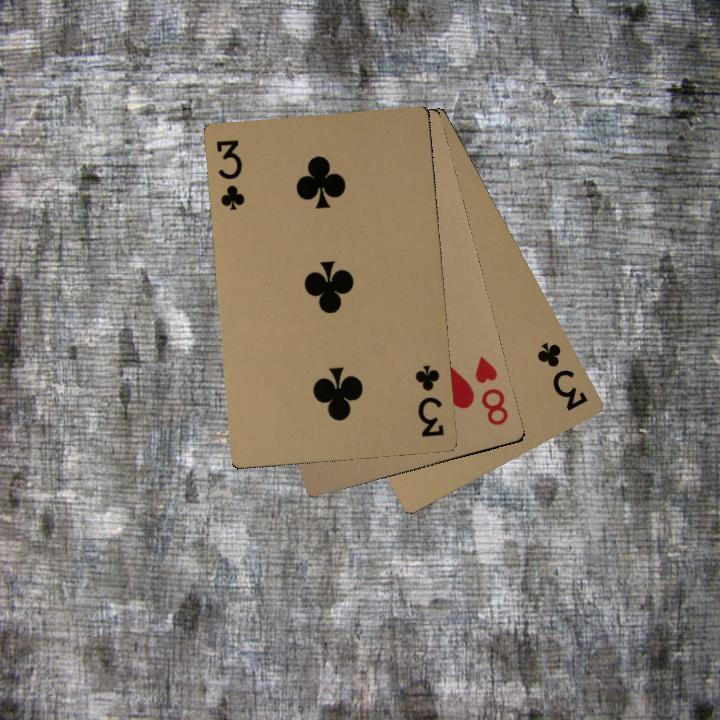3c: (532, 338, 590, 414), (411, 361, 447, 440), (212, 135, 248, 213)
8h: (471, 354, 511, 428)
